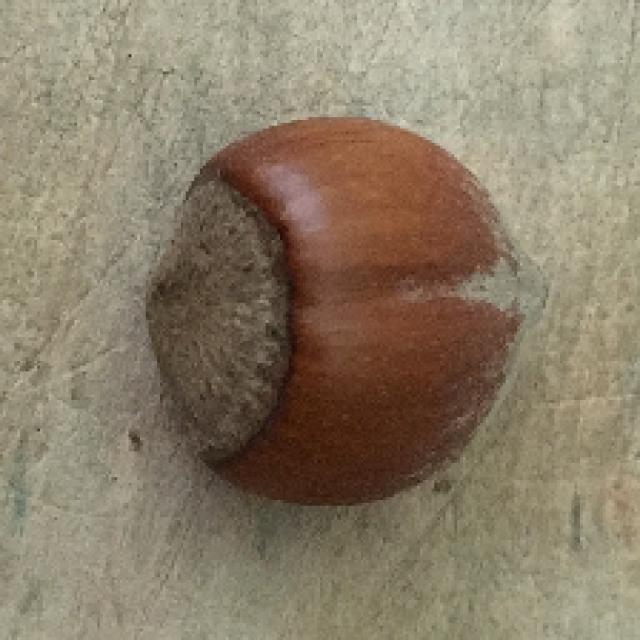qualityHazelnut: (149, 110, 537, 512)
